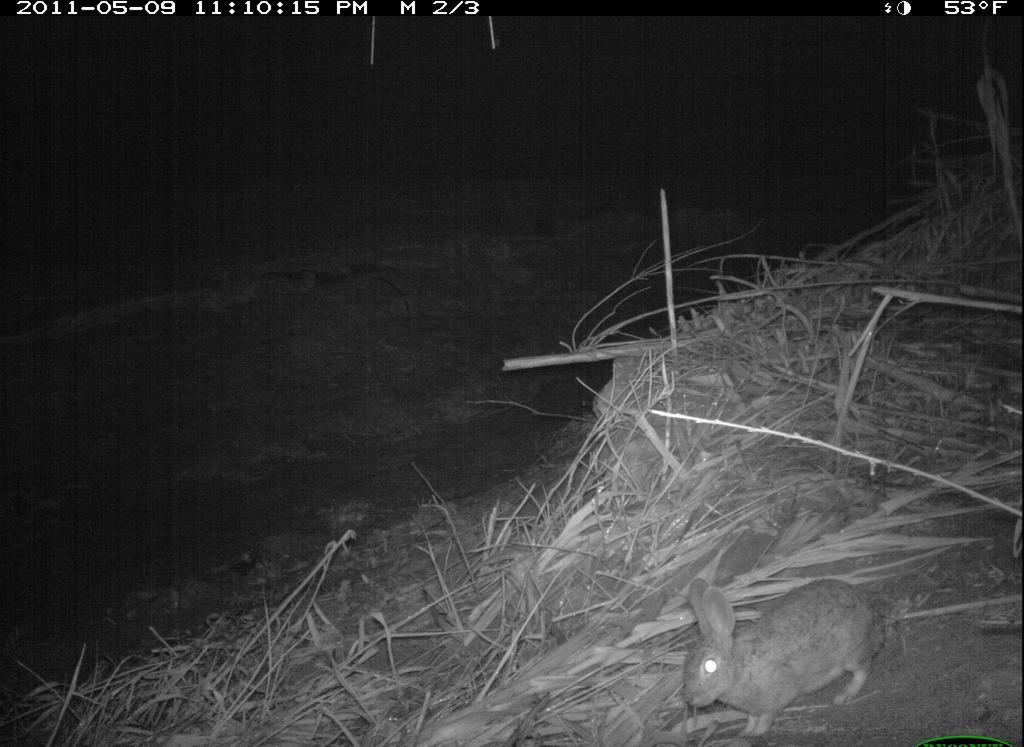rabbit: (662, 573, 897, 729)
